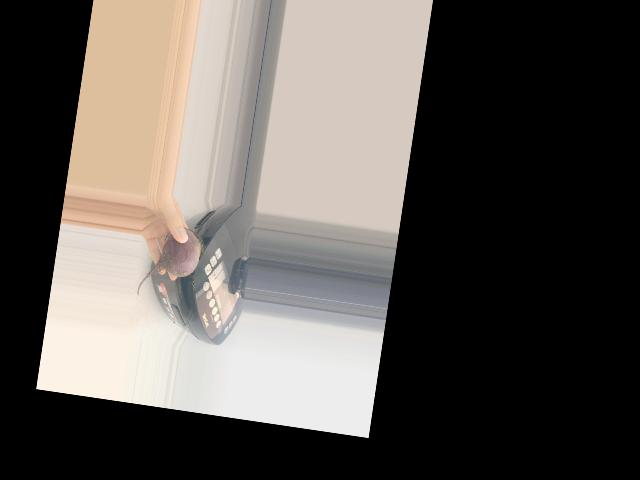beet: (136, 222, 205, 304)
